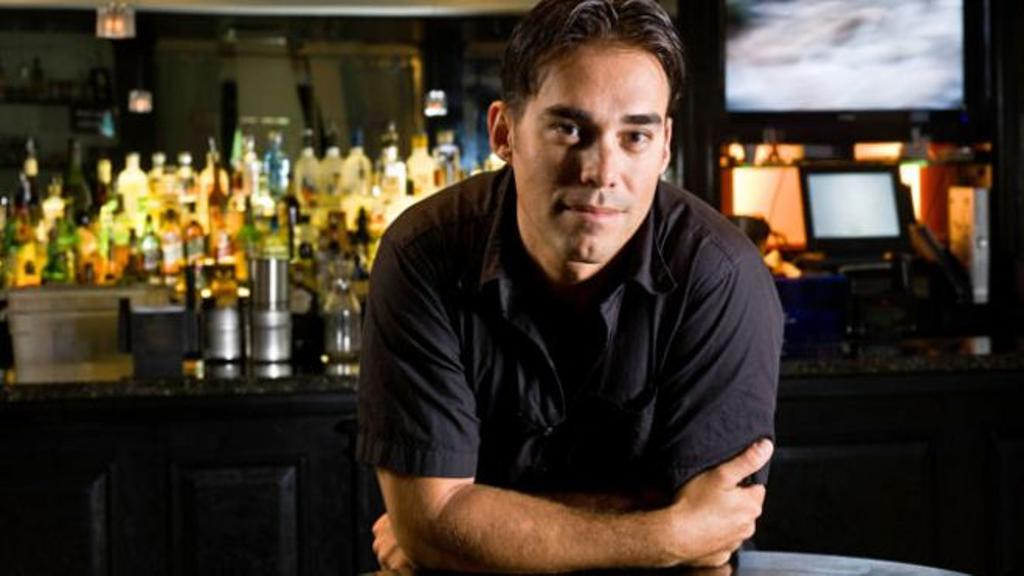face: (514, 38, 670, 262)
